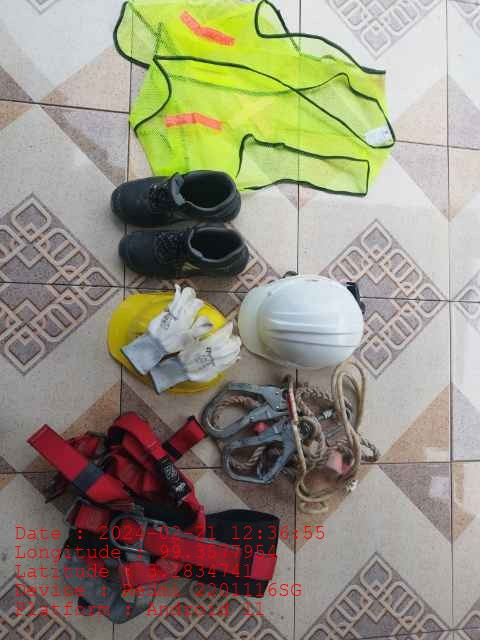HELM: (241, 274, 357, 366)
SEPATU: (111, 176, 251, 277)
TAMBANG_SLING: (207, 383, 377, 506)
